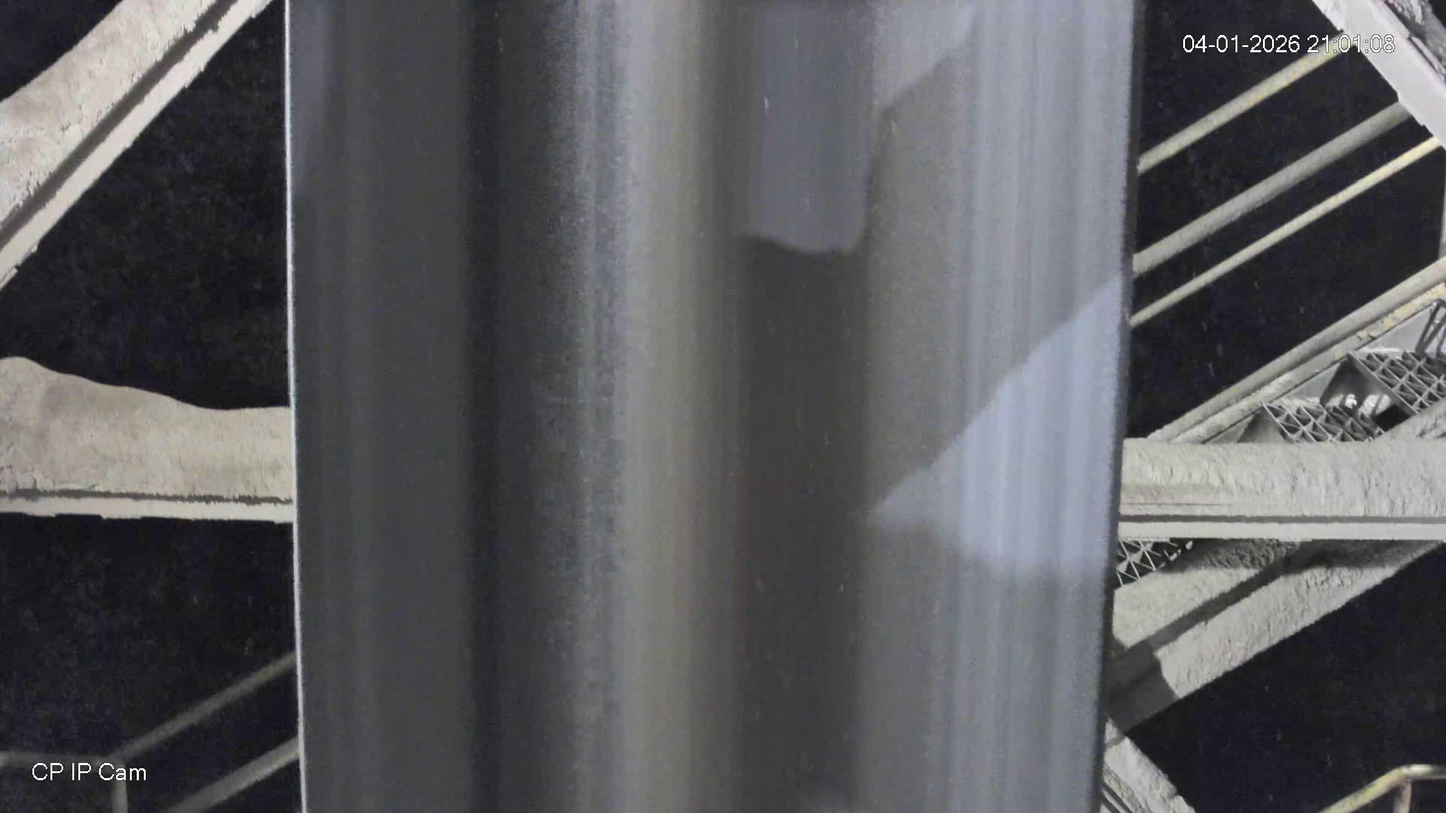belt_roi: (287, 0, 1147, 813)
